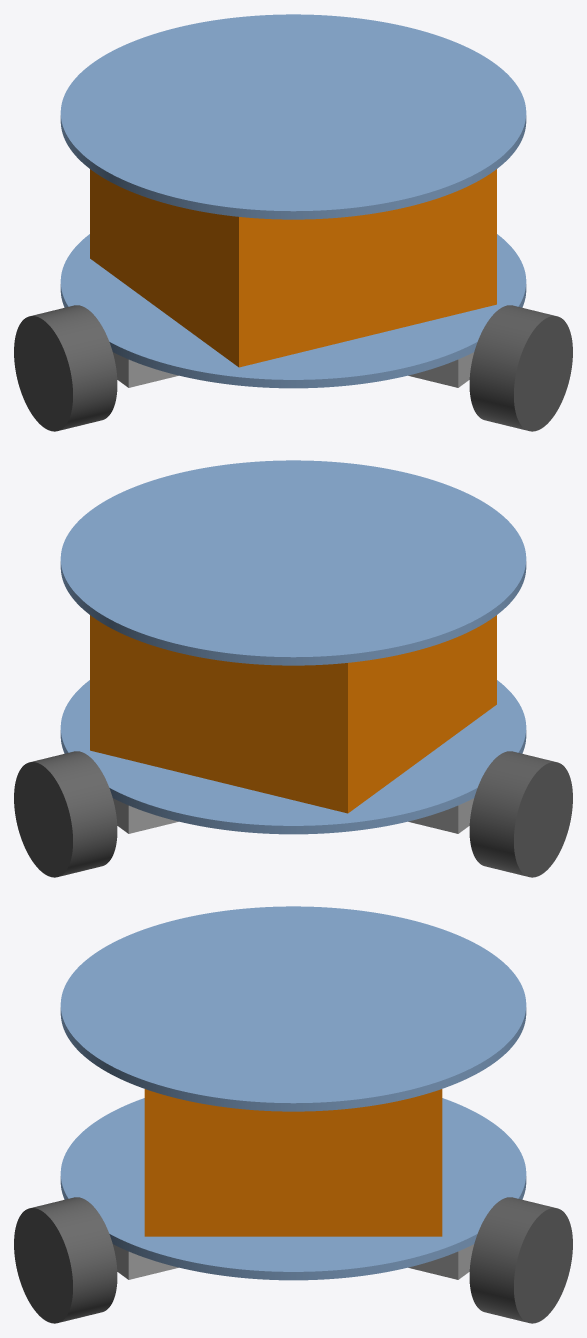
The model's file is omni_base.dae.
3 renders of one model, top to bottom at view 1: azimuth 30°, elevation 25°; view 2: azimuth 150°, elevation 25°; view 3: azimuth 270°, elevation 25°, orthographic.
Parts seen in each view (by area): view 1: 5c1674b57aeda015ebcfc1e4 (×7); view 2: 5c1674b57aeda015ebcfc1e4 (×7); view 3: 5c1674b57aeda015ebcfc1e4 (×7).
Boxes of the visible parts, x1,y1,x2,y2 form: 5c1674b57aeda015ebcfc1e4 (×7): (14,14,572,431); 5c1674b57aeda015ebcfc1e4 (×7): (14,460,572,877); 5c1674b57aeda015ebcfc1e4 (×7): (14,906,572,1323).
Size of the model in its own units: 0.56 by 0.6004 by 0.3005.
